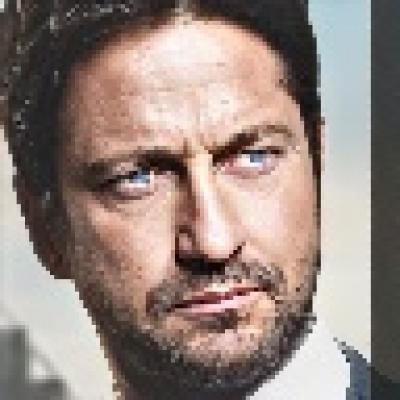angry: (52, 23, 318, 377)
